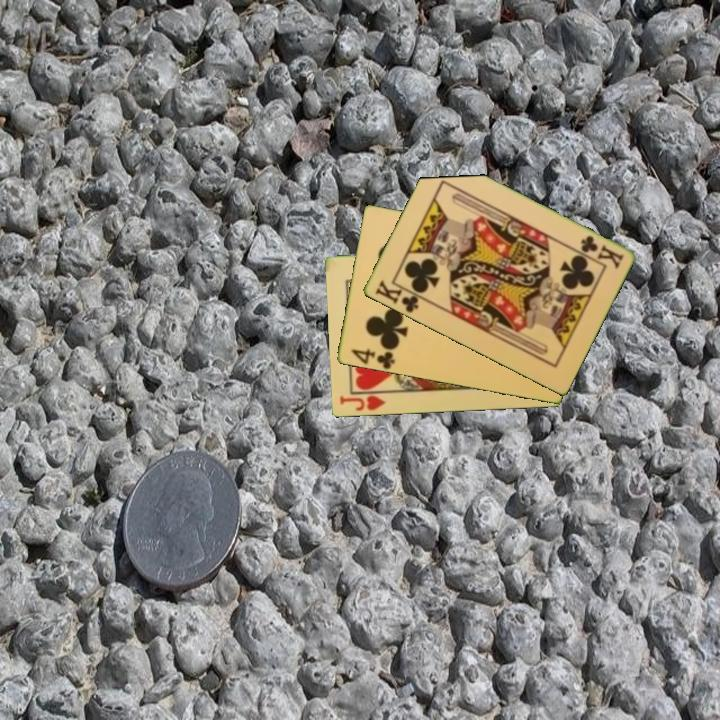4c: (347, 346, 397, 371)
Jh: (336, 392, 388, 414)
Kc: (371, 276, 427, 316), (577, 232, 626, 271)
